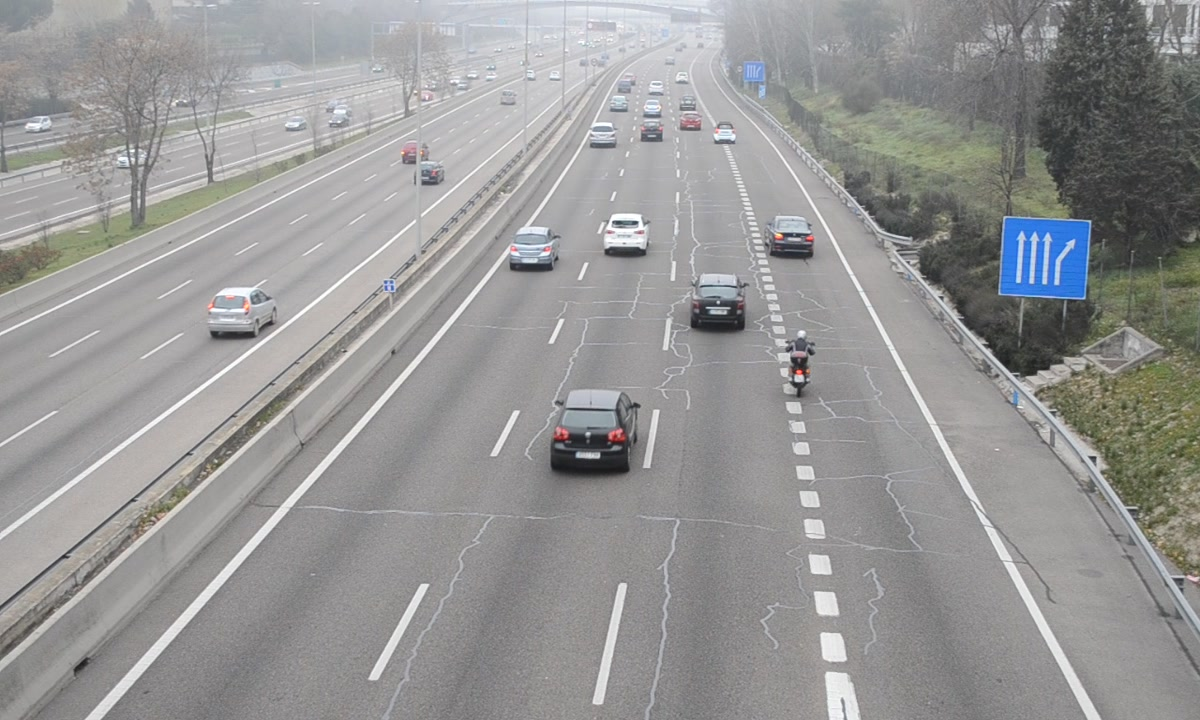car: (550, 390, 636, 471), (691, 275, 743, 330), (603, 213, 651, 255), (510, 227, 559, 268), (766, 215, 816, 255), (588, 122, 619, 150), (640, 117, 665, 142), (715, 120, 737, 145)
motorcycle: (783, 328, 818, 399)
